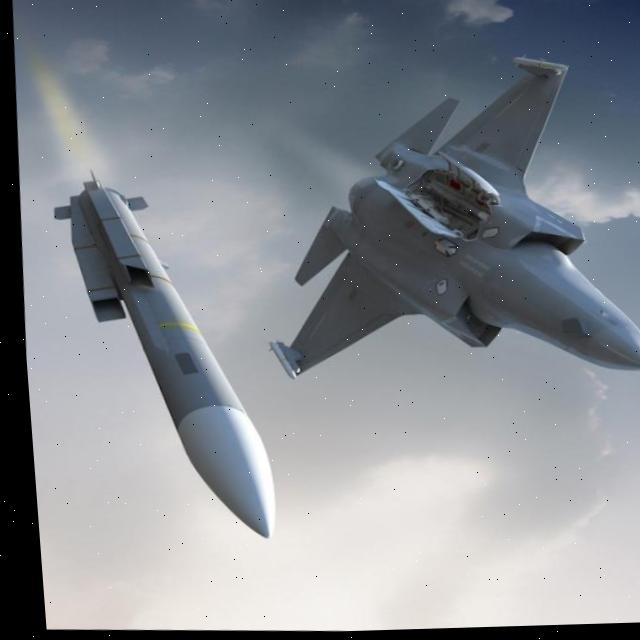missile: (37, 182, 282, 548)
